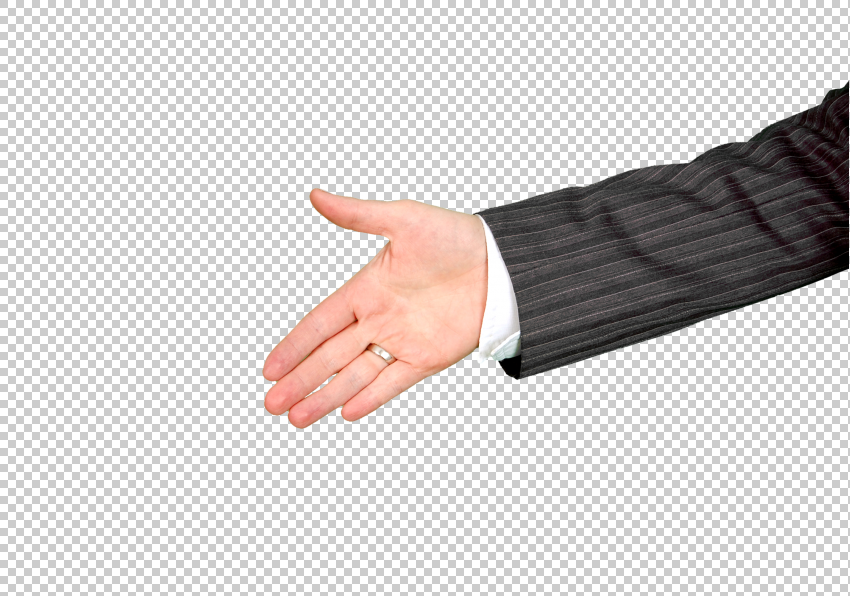no-phone: (258, 181, 482, 436)
